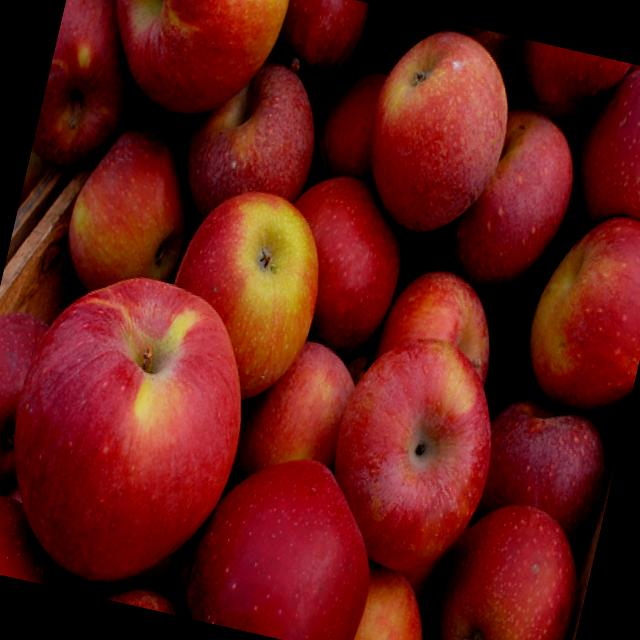alpple: (0, 264, 268, 593), (314, 324, 511, 580), (154, 178, 334, 404), (344, 22, 528, 236), (517, 204, 640, 418), (434, 484, 594, 640), (93, 0, 285, 126)
